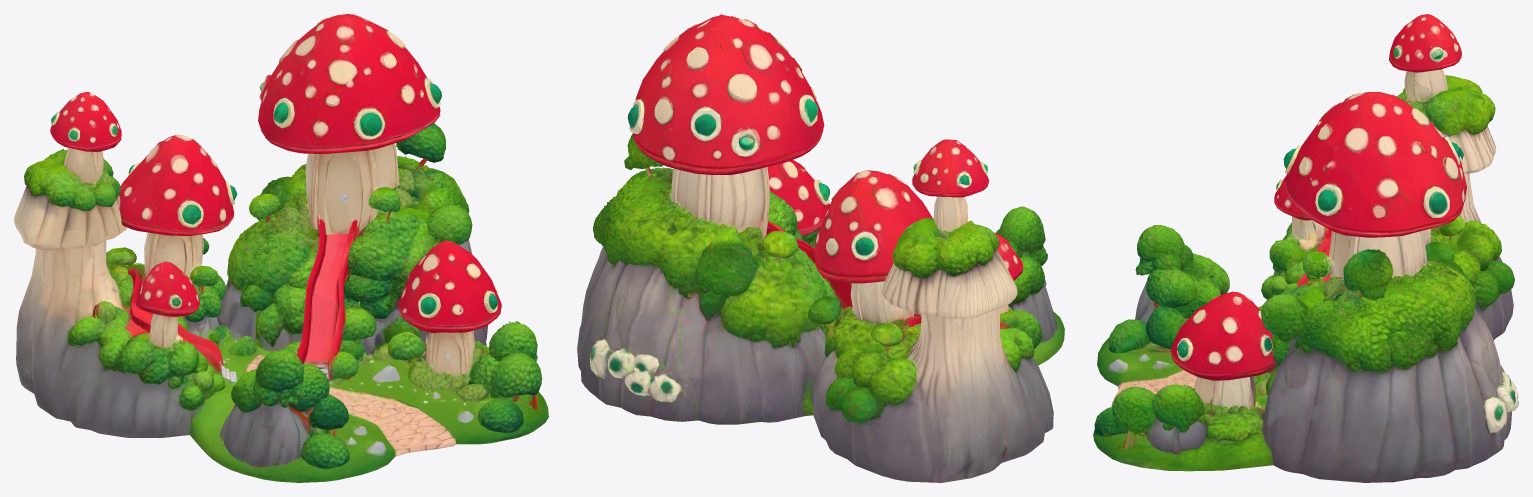
File: homes-mushroom-pods.glb
3 renders of one model, left to right at view 1: azimuth 30°, elevation 25°; view 2: azimuth 150°, elevation 25°; view 3: azimuth 270°, elevation 25°, orthographic. The views are drawn at different scales.
Parts seen in each view (by area): view 1: Mesh_0; view 2: Mesh_0; view 3: Mesh_0.
Part boxes in pixels (<box>): Mesh_0: <box>14,14,548,482</box>; Mesh_0: <box>577,14,1064,482</box>; Mesh_0: <box>1093,14,1518,482</box>.
Bounding box in the file's own units: 1.89 × 1.41 × 1.64.
Materials: 1 (1 with a texture image).
